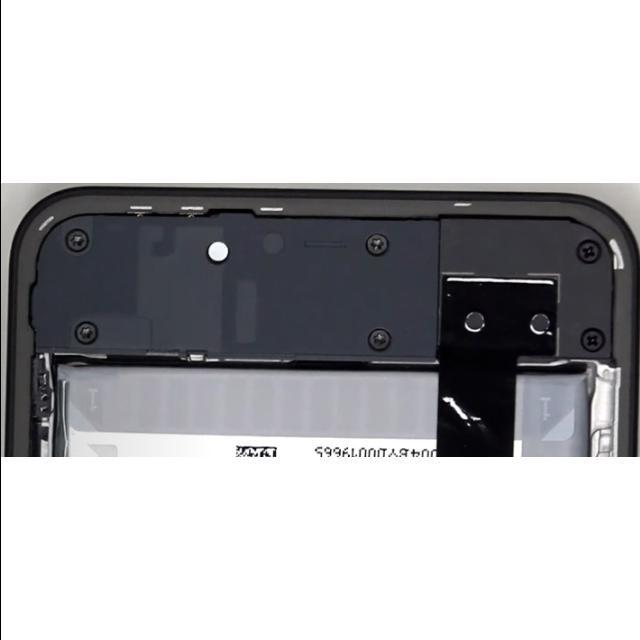Torx: (65, 228, 89, 252), (75, 322, 98, 344), (368, 329, 391, 351), (366, 234, 388, 255)
